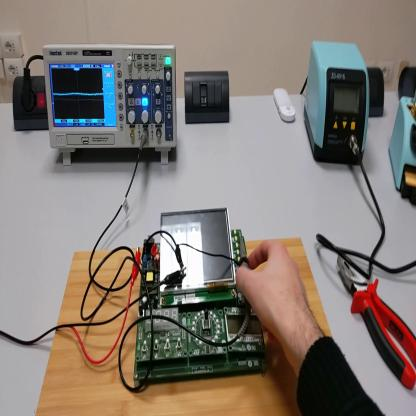hand: (237, 237, 311, 363)
low voltage board: (135, 222, 268, 393)
oscilloscope: (43, 46, 179, 167)
oscilloscope probe tip: (236, 235, 252, 337)
pliers: (338, 254, 416, 393)
socket: (14, 76, 49, 135), (369, 67, 387, 119), (399, 65, 416, 97)
welder base: (392, 85, 416, 206)
welder station: (306, 38, 370, 168)
working area: (35, 233, 332, 415)
